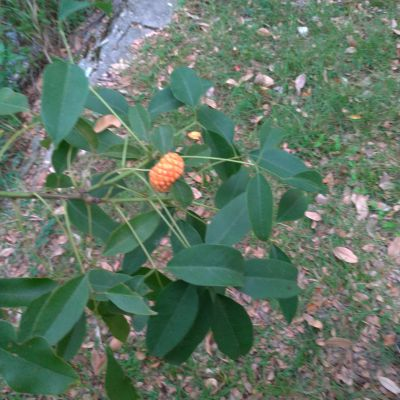eggs: (142, 147, 190, 192)
